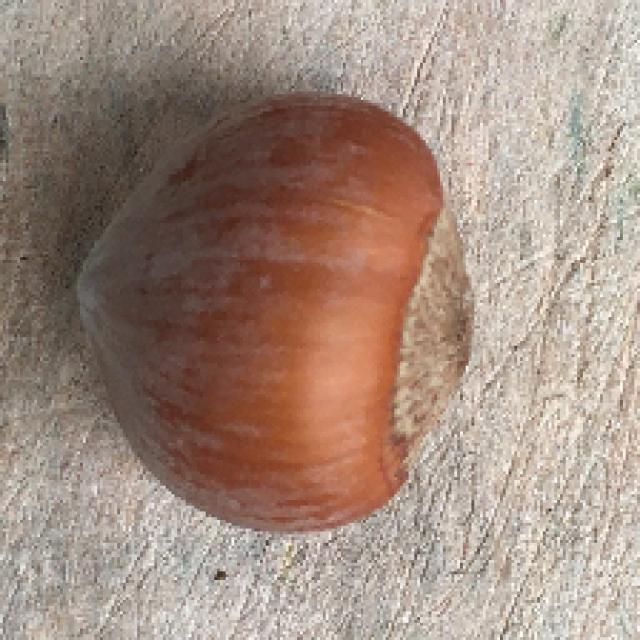QualityHazelnut: (77, 88, 473, 534)
